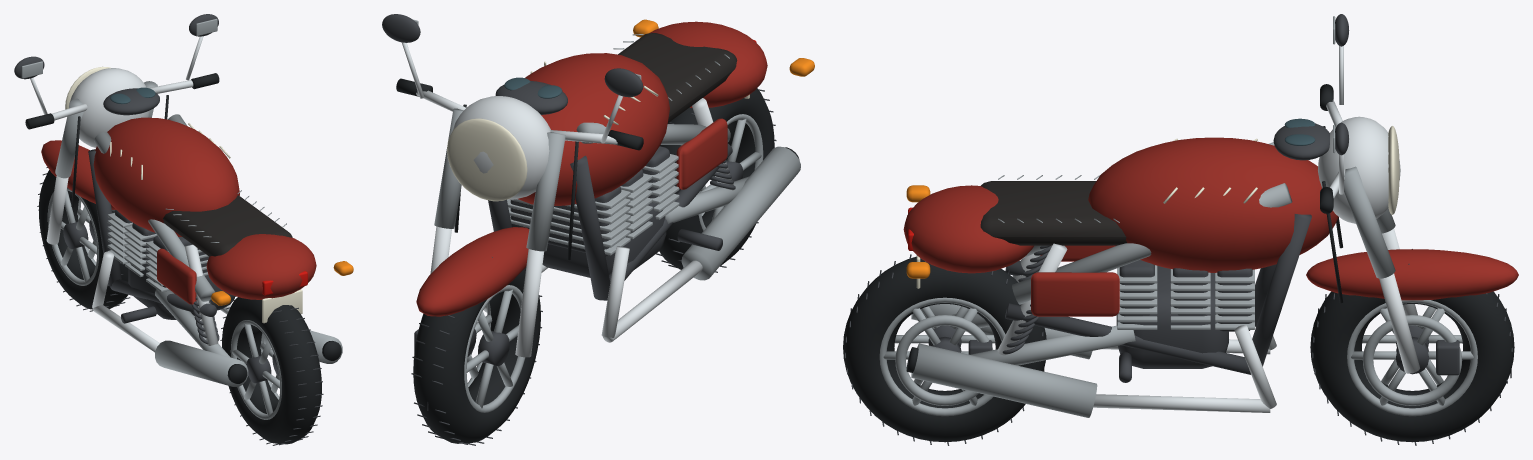
Rendered from motorcycle.glb.
3 views of the same model, side by side, from view 1: azimuth 30°, elevation 25°; view 2: azimuth 150°, elevation 25°; view 3: azimuth 270°, elevation 25° (orthographic). The views are drawn at different scales.
Visible parts, largest first — view 1: Paint, Brushed steel, Rubber.001, Chrome, Engine, Seat leather, Rubber.002, Brushed steel.001, Brushed steel.002, Rubber, Headlight, Engine.001 (+3 smaller); view 2: Paint, Brushed steel, Engine, Chrome, Rubber.002, Headlight, Seat leather, Rubber.001, Brushed steel.002, Rubber, Engine.002, Brushed steel.001 (+3 smaller); view 3: Paint, Brushed steel, Engine, Rubber.001, Rubber.002, Chrome, Seat leather, Brushed steel.002, Brushed steel.001, Rubber, Headlight, Engine.002 (+2 smaller).
Part boxes in pixels (box(x1,y1,x2,y2)): Paint: box(41, 117, 316, 304); Brushed steel: box(21, 18, 342, 386); Rubber.001: box(222, 297, 321, 444); Chrome: box(30, 36, 231, 352); Engine: box(14, 14, 234, 344); Seat leather: box(163, 195, 292, 256); Rubber.002: box(38, 170, 128, 309); Brushed steel.001: box(230, 320, 281, 419); Brushed steel.002: box(47, 187, 98, 285); Rubber: box(25, 73, 341, 383); Headlight: box(65, 66, 302, 323); Engine.001: box(220, 296, 323, 445); Paint: box(416, 21, 767, 316); Brushed steel: box(413, 19, 800, 280); Engine: box(382, 14, 735, 352); Chrome: box(401, 42, 733, 357); Rubber.002: box(413, 267, 540, 443); Headlight: box(447, 61, 749, 201); Seat leather: box(618, 33, 737, 122); Rubber.001: box(659, 88, 774, 269); Brushed steel.002: box(464, 285, 525, 412); Rubber: box(396, 78, 799, 259); Engine.002: box(411, 248, 542, 445); Brushed steel.001: box(698, 114, 763, 230); Paint: box(903, 137, 1518, 316); Brushed steel: box(911, 16, 1395, 417); Engine: box(968, 14, 1459, 382); Rubber.001: box(843, 256, 1046, 442); Rubber.002: box(1310, 291, 1514, 442); Chrome: box(997, 46, 1419, 412); Seat leather: box(980, 181, 1126, 245); Brushed steel.002: box(1347, 300, 1477, 416); Brushed steel.001: box(879, 297, 1005, 416); Rubber: box(906, 84, 1342, 372); Headlight: box(916, 126, 1399, 288); Engine.002: box(1312, 249, 1512, 445).
Bounding box in the file's own units: 1.02 × 1.37 × 2.28.
